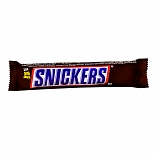snickers: (33, 66, 107, 85)
